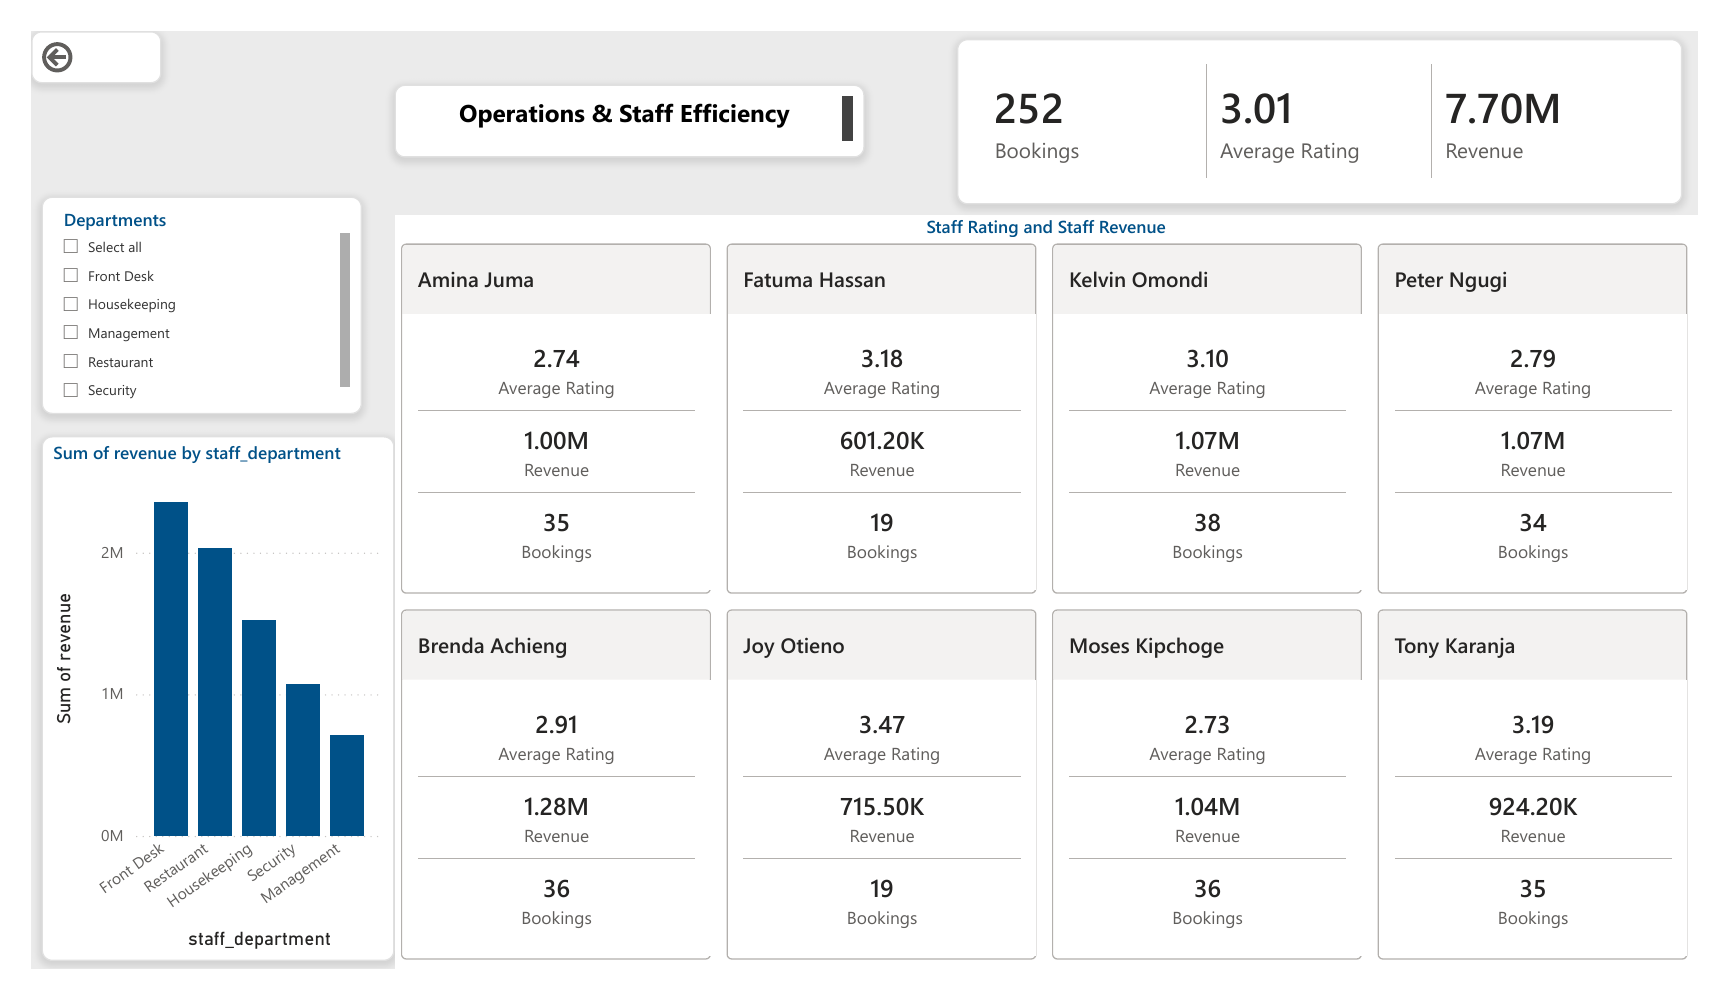

The dashboard page shown, as its layout file describes it:
{"tool":"powerbi","page":{"name":"Operations & Staff Efficiency","canvas":[1280,720],"ordinal":2},"visuals":[{"type":"lineStackedColumnComboChart","fields":{"Category":["tembo_hotel v_staff_by_month.staff_department"],"Y":["Sum(tembo_hotel v_staff_by_month.revenue)"]},"box":[7.9,311.5,270.9,402.5],"z":0},{"type":"cardVisual","title":"Staff Rating and Staff Revenue","fields":{"Data":["Avg(tembo_hotel v_staff_by_month.avg_rating)","Sum(tembo_hotel v_staff_by_month.revenue)","Sum(tembo_hotel v_staff_by_month.num_bookings)"],"Rows":["tembo_hotel v_staff_by_month.staff_name"]},"box":[278.8,141.3,1001.2,578.5],"z":1000},{"type":"slicer","fields":{"Values":["tembo_hotel v_staff_by_month.staff_department"]},"box":[8.1,126.5,245.6,167.1],"z":2000},{"type":"cardVisual","fields":{"Data":["Sum(tembo_hotel v_staff_by_month.num_bookings)","Avg(tembo_hotel v_staff_by_month.avg_rating)","Sum(tembo_hotel v_staff_by_month.revenue)"]},"box":[710.7,5.9,556.9,127],"z":3000},{"type":"textbox","box":[278.8,41.2,361.2,55.6],"z":4000},{"type":"actionButton","box":[0,0,100,40],"z":5000}]}

Visuals, with their boxes in screenshot pixels (x1, y1, x2, y2), scaled from the page's 1280x720 canvas onto the 1730x1000 screenshot:
lineStackedColumnComboChart - tembo_hotel v_staff_by_month.staff_department x Sum(tembo_hotel v_staff_by_month.revenue): {"left": 11, "top": 433, "right": 377, "bottom": 992}
"Staff Rating and Staff Revenue" cardVisual: {"left": 377, "top": 196, "right": 1729, "bottom": 999}
slicer - tembo_hotel v_staff_by_month.staff_department: {"left": 11, "top": 176, "right": 343, "bottom": 408}
cardVisual - Sum(tembo_hotel v_staff_by_month.num_bookings) x Avg(tembo_hotel v_staff_by_month.avg_rating): {"left": 961, "top": 8, "right": 1713, "bottom": 185}
textbox: {"left": 377, "top": 57, "right": 865, "bottom": 134}
actionButton: {"left": 0, "top": 0, "right": 135, "bottom": 56}
